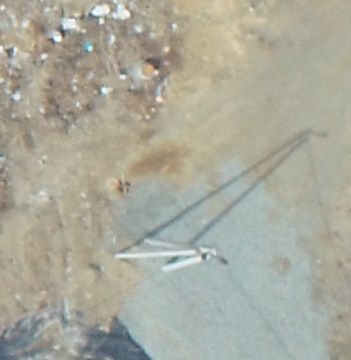opora: (114, 213, 230, 275)
